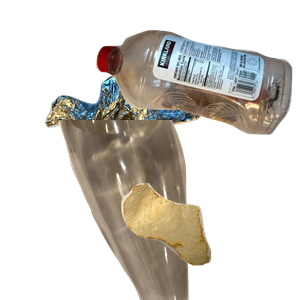glass: (56, 120, 241, 300)
metal: (42, 72, 239, 229)
plastic: (93, 27, 300, 154)
trash: (119, 181, 300, 300)
